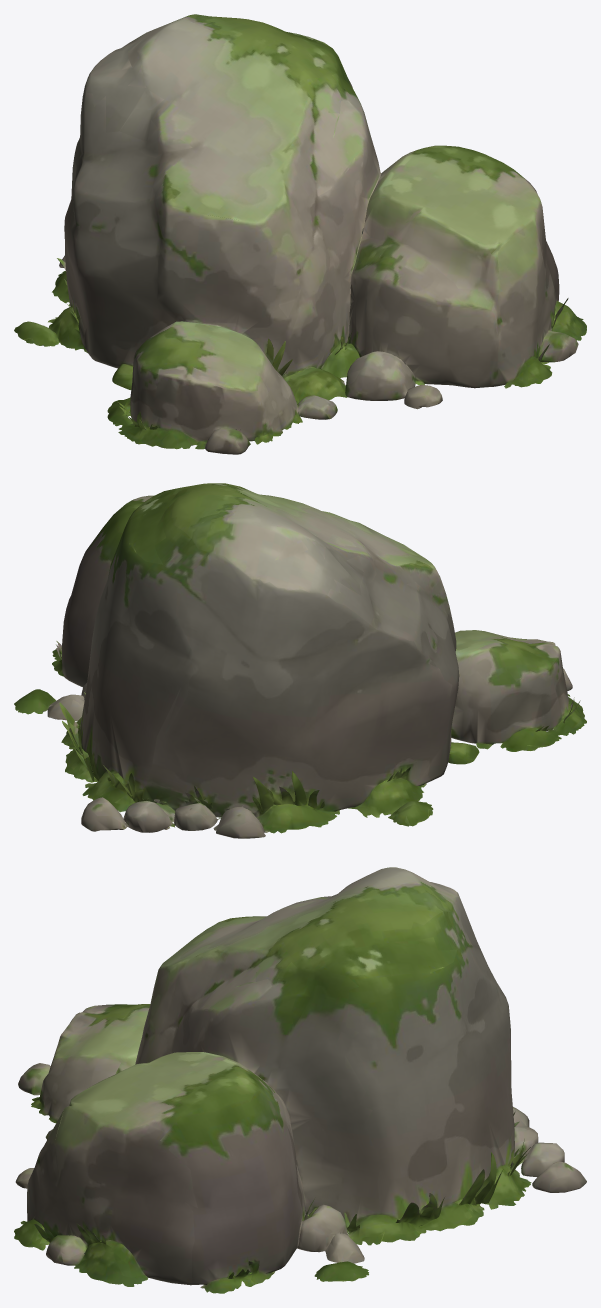
The model's file is BoulderMossy.glb.
3 renders of one model, top to bottom at view 1: azimuth 30°, elevation 25°; view 2: azimuth 150°, elevation 25°; view 3: azimuth 270°, elevation 25°, orthographic. The views are drawn at different scales.
Parts seen in each view (by area): view 1: BoulderMossy; view 2: BoulderMossy; view 3: BoulderMossy.
Boxes of the visible parts, x1,y1,x2,y2 form: BoulderMossy: (14, 14, 586, 454); BoulderMossy: (14, 483, 586, 838); BoulderMossy: (14, 867, 586, 1293).
Bounding box in the file's own units: 2.37 × 1.28 × 2.4.
Materials: 1 (1 with a texture image).
